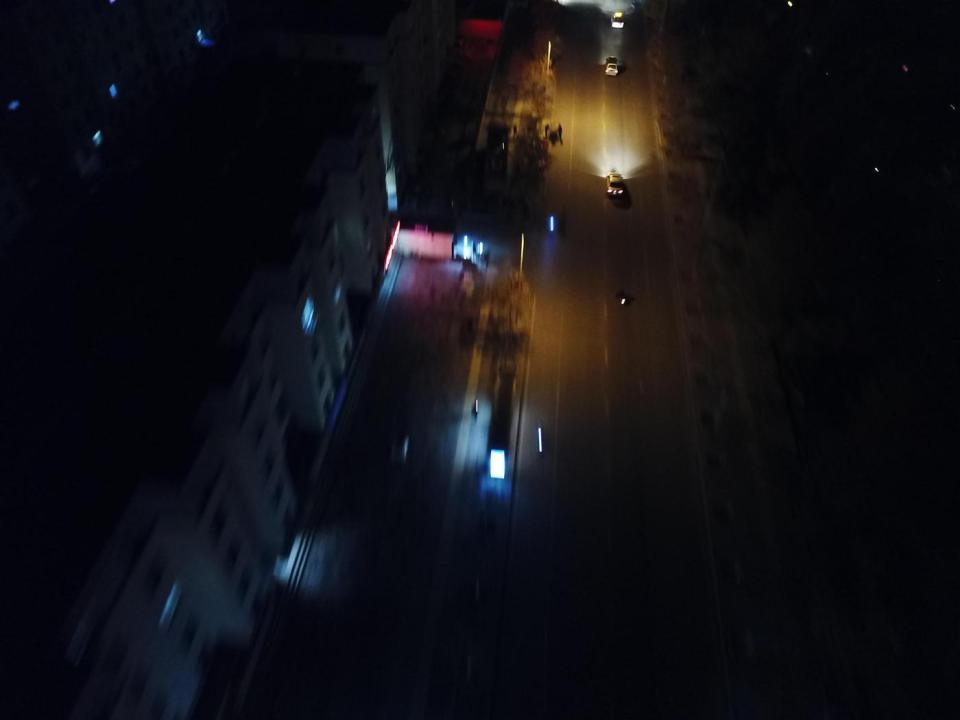car: (489, 447, 507, 480), (390, 432, 408, 464), (607, 172, 624, 195), (610, 11, 624, 28)
van: (605, 56, 618, 76)
